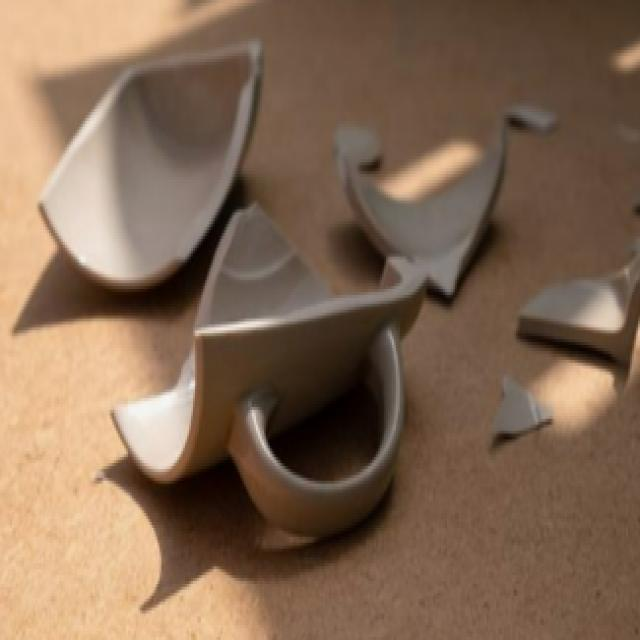PecahanKaca: (108, 198, 430, 552), (35, 35, 264, 292), (331, 100, 557, 301)
